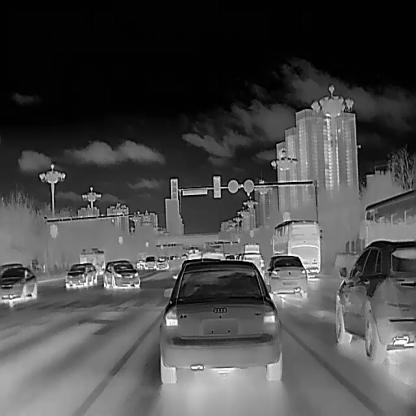car: (157, 257, 282, 383), (334, 239, 416, 364), (358, 188, 416, 263), (269, 219, 320, 280), (261, 253, 308, 300), (0, 266, 37, 303), (102, 260, 140, 289), (76, 246, 105, 275), (64, 261, 93, 288), (237, 252, 265, 278), (201, 247, 223, 259), (241, 242, 261, 254), (154, 254, 171, 268), (143, 254, 157, 268), (187, 246, 200, 260)
